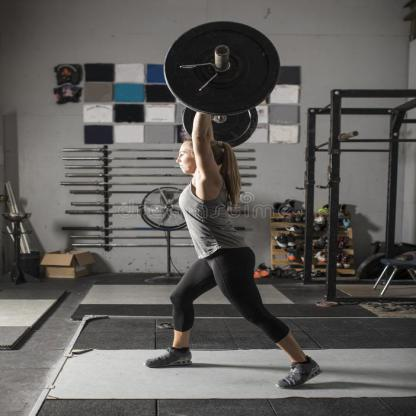Barbell: (161, 18, 287, 117)
